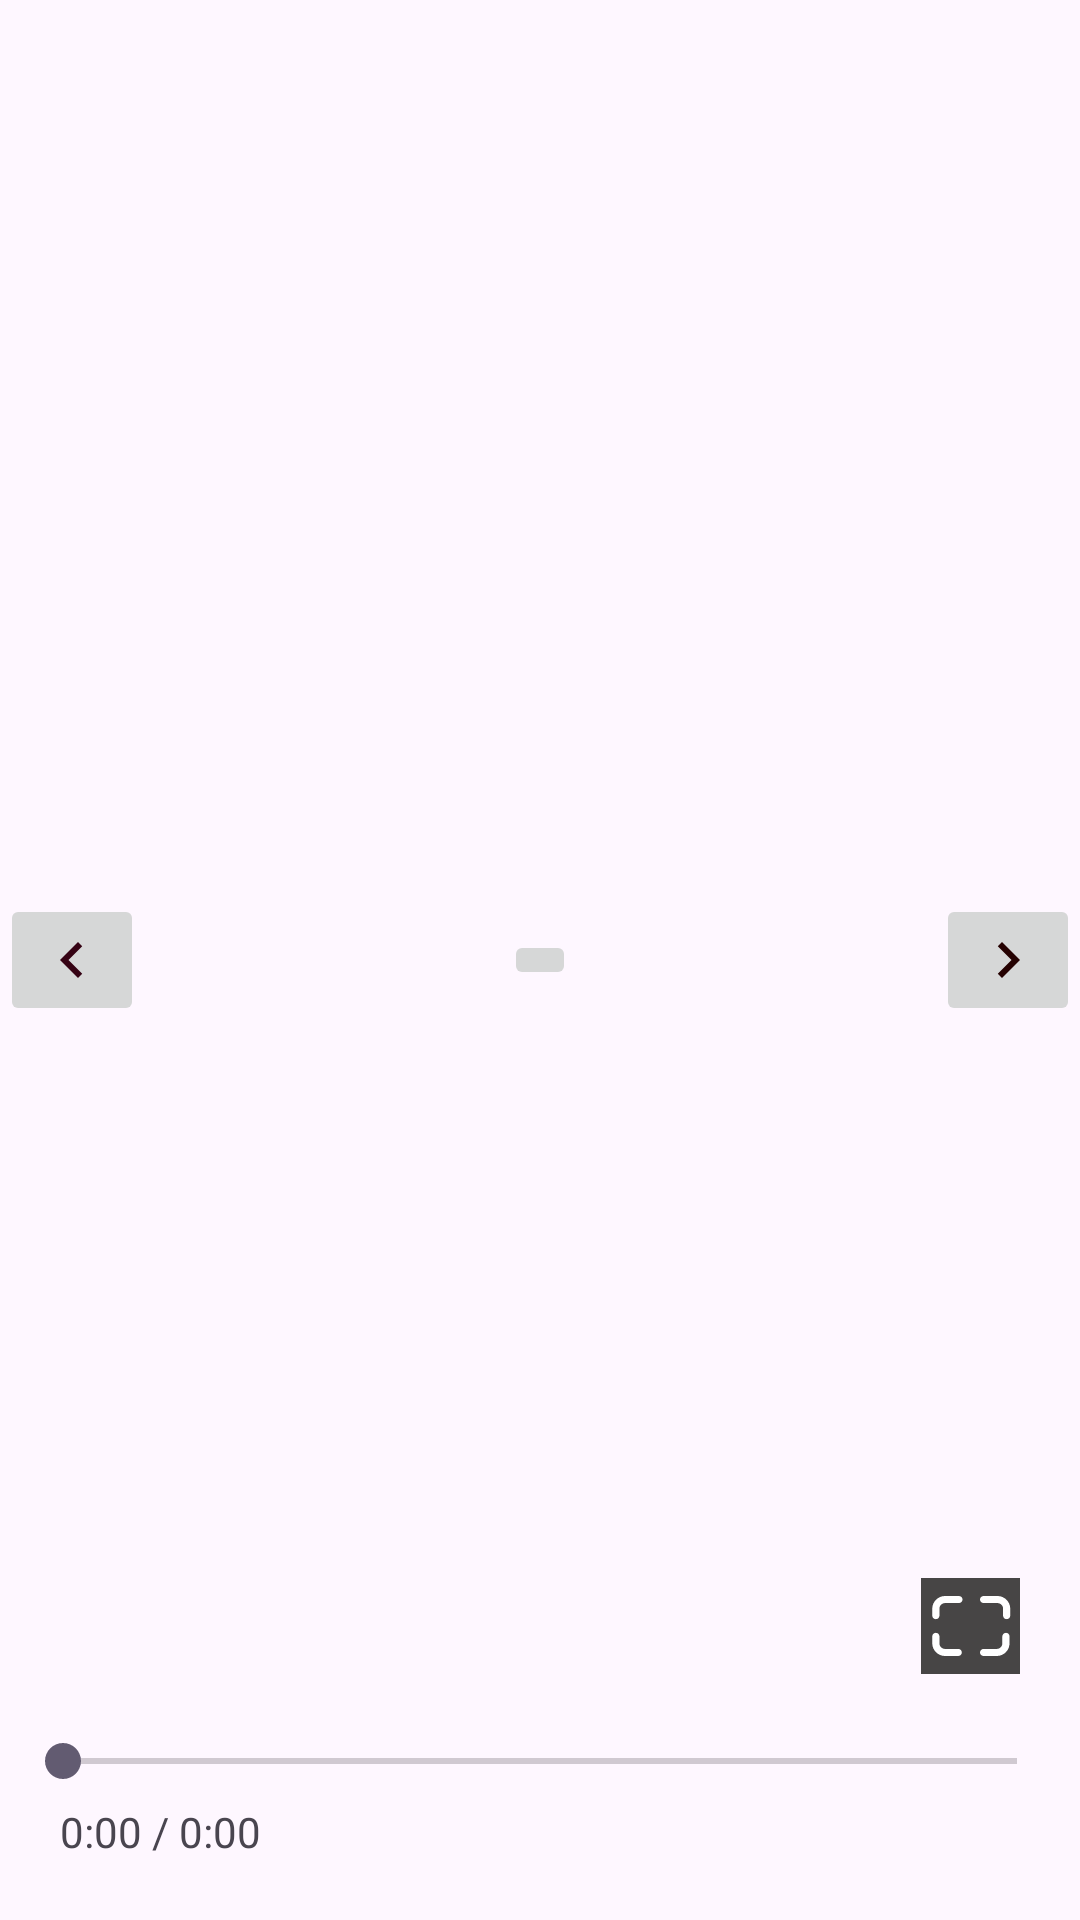

Where icons sit on this 1080px×1920px app screen, as rect(x1, y1, x2, y2):
fullscreen open: rect(921, 1578, 1020, 1674)
navigate before: rect(12, 912, 132, 1008)
navigate next: rect(948, 912, 1068, 1008)
